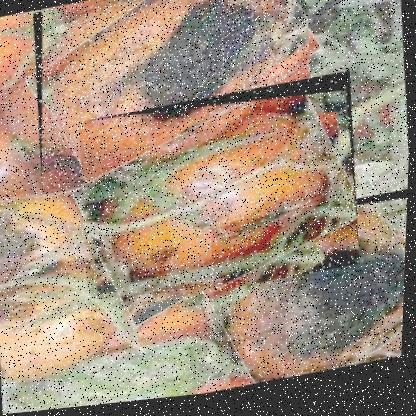tomato_rotten: (74, 76, 368, 319), (26, 0, 321, 197), (205, 196, 408, 396)
